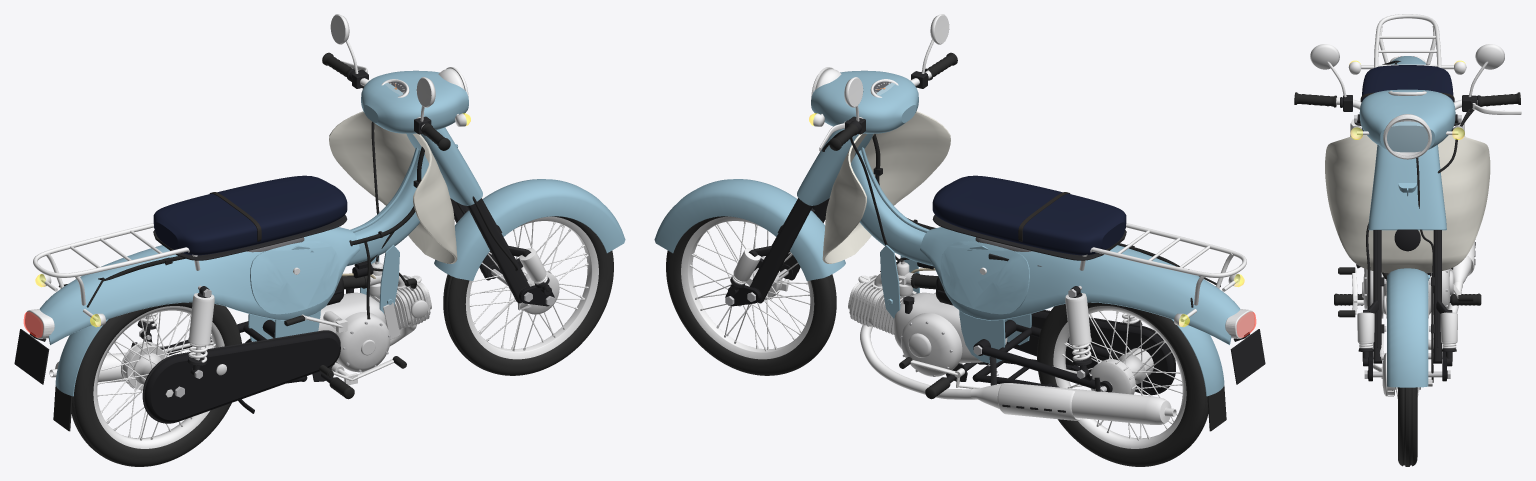
Rendered from bike_step_through.glb.
3 views of the same model, side by side, from view 1: azimuth 30°, elevation 25°; view 2: azimuth 150°, elevation 25°; view 3: azimuth 270°, elevation 25° (orthographic). The views are drawn at different scales.
Parts seen in each view (by area): view 1: frame_body__rear_body, frame_body__seat, transmission__chain_case, frame_body__leg_shield, frame_body__front_mudguard, wheels__rear_wheel__tyre, wheels__front_wheel__tyre, frame_body__side_covers__left, frame_body__handlebar_cowl, wheels__front_wheel__rim, frame_body__frame__backbone, electrical__generator__cover (+20 smaller); view 2: frame_body__rear_body, frame_body__seat, frame_body__leg_shield, frame_body__front_mudguard, wheels__rear_wheel__tyre, wheels__front_wheel__tyre, frame_body__side_covers__right, frame_body__handlebar_cowl, transmission__chain_case, powertrain__exhaust__silencer, frame_body__frame__brackets, frame_body__frame__backbone (+25 smaller); view 3: frame_body__leg_shield, chassis__front_fork__top_cover, frame_body__front_mudguard, frame_body__handlebar_cowl, chassis__front_fork__legs, frame_body__seat, wheels__front_wheel__tyre, frame_body__carrier, chassis__handlebar__mirrors, electrical__headlight__lens, chassis__front_fork__shock_covers, chassis__handlebar__grips (+17 smaller).
Part boxes in pixels (x1,y1,x2,y2): frame_body__rear_body: [39, 227, 359, 344]; frame_body__seat: [153, 175, 347, 255]; transmission__chain_case: [142, 330, 340, 423]; frame_body__leg_shield: [329, 111, 457, 263]; frame_body__front_mudguard: [434, 179, 625, 280]; wheels__rear_wheel__tyre: [71, 302, 241, 466]; wheels__front_wheel__tyre: [443, 216, 613, 375]; frame_body__side_covers__left: [250, 241, 339, 314]; frame_body__handlebar_cowl: [361, 70, 468, 133]; wheels__front_wheel__rim: [465, 216, 598, 359]; frame_body__frame__backbone: [347, 144, 457, 265]; electrical__generator__cover: [335, 312, 390, 372]; frame_body__rear_body: [920, 227, 1240, 344]; frame_body__seat: [932, 175, 1126, 255]; frame_body__leg_shield: [822, 111, 950, 263]; frame_body__front_mudguard: [654, 179, 845, 280]; wheels__rear_wheel__tyre: [1037, 302, 1208, 466]; wheels__front_wheel__tyre: [666, 216, 836, 375]; frame_body__side_covers__right: [940, 241, 1029, 314]; frame_body__handlebar_cowl: [811, 70, 918, 133]; transmission__chain_case: [1006, 310, 1175, 395]; powertrain__exhaust__silencer: [970, 383, 1176, 424]; frame_body__frame__brackets: [880, 244, 1031, 363]; frame_body__frame__backbone: [851, 148, 932, 265]; frame_body__leg_shield: [1325, 135, 1490, 273]; chassis__front_fork__top_cover: [1368, 145, 1446, 230]; frame_body__front_mudguard: [1387, 268, 1428, 387]; frame_body__handlebar_cowl: [1359, 89, 1455, 152]; chassis__front_fork__legs: [1368, 230, 1447, 363]; frame_body__seat: [1361, 65, 1453, 131]; wheels__front_wheel__tyre: [1398, 387, 1417, 466]; frame_body__carrier: [1374, 14, 1441, 67]; chassis__handlebar__mirrors: [1310, 44, 1504, 69]; electrical__headlight__lens: [1387, 120, 1427, 155]; chassis__front_fork__shock_covers: [1357, 312, 1457, 342]; chassis__handlebar__grips: [1294, 92, 1520, 107].
Size of the model in its own units: 194 by 113 by 67.19.
